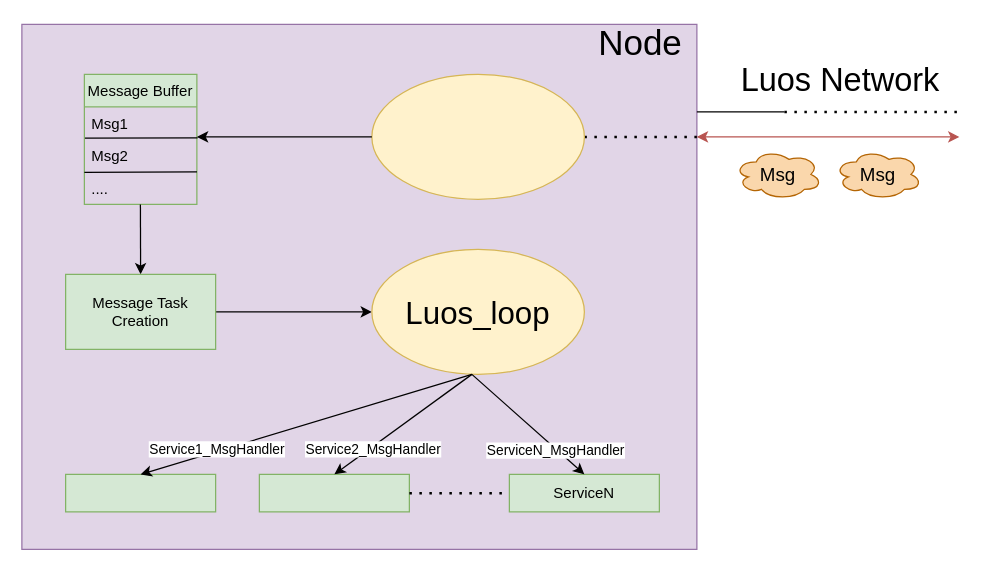
Image size: 993x571. Some labels were removed from this diagram. The centre of each missing label's shape, as x and y in pixels:
Robus_loop: point 477,136
Service1: point 140,492
Service2: point 333,492
